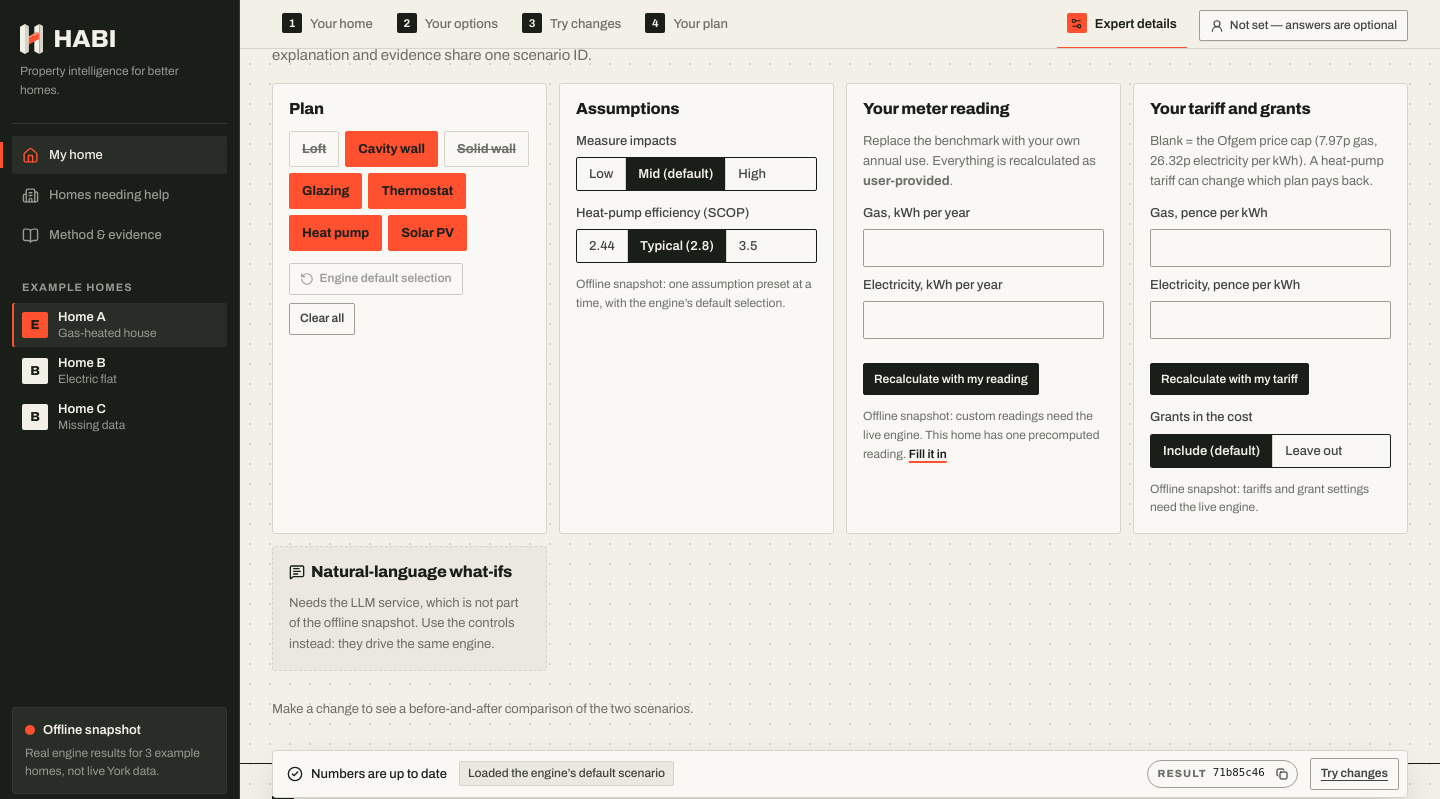
Test: My Home: demo home A (Poor gas house) › uses a meter reading as a user-provided baseline (preset in the snapshot)
(page scrolled)
Click the button "Fill it in": (928, 454) [909, 445, 947, 463]
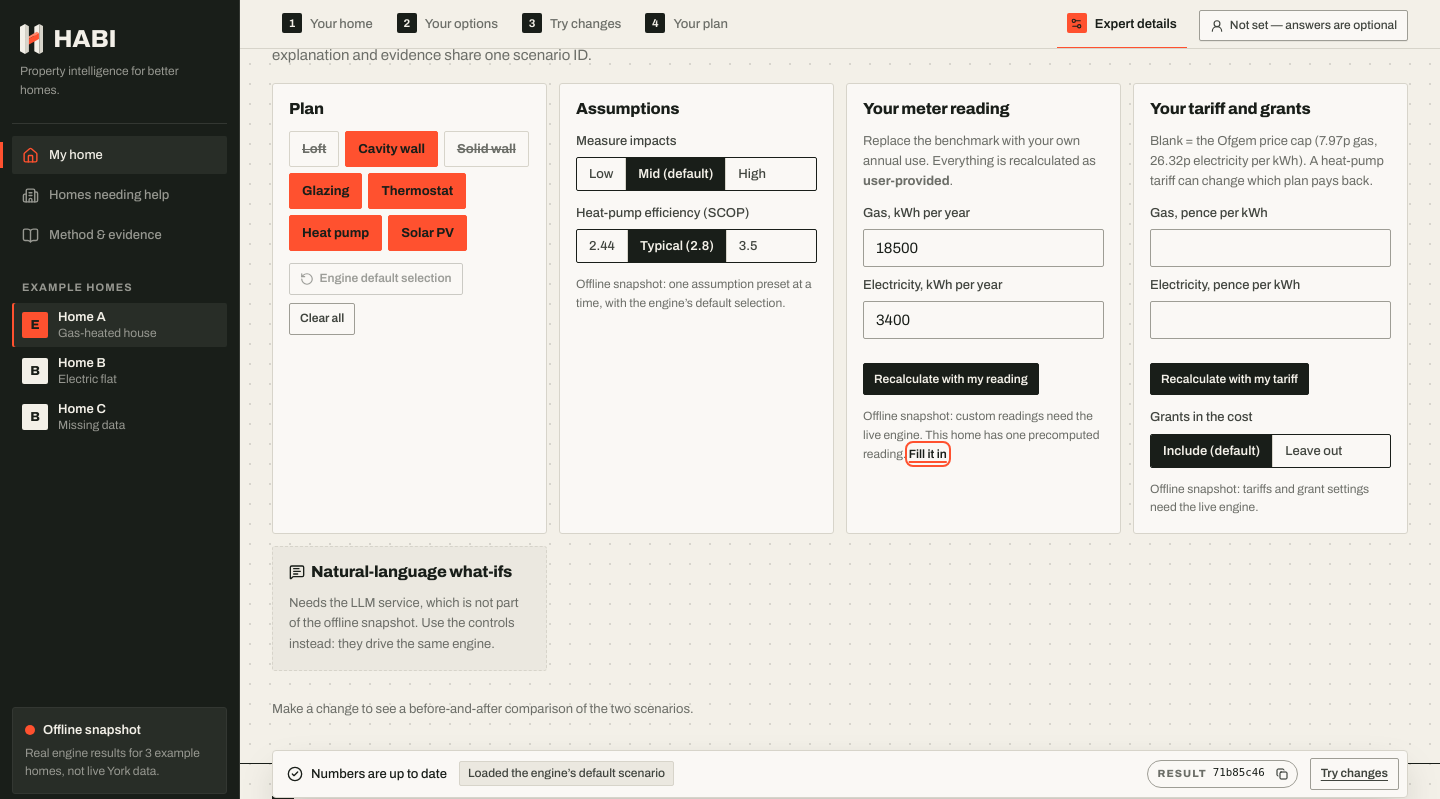
Click the button "Recalculate with my reading": (951, 379) [863, 363, 1039, 395]
(page scrolled)
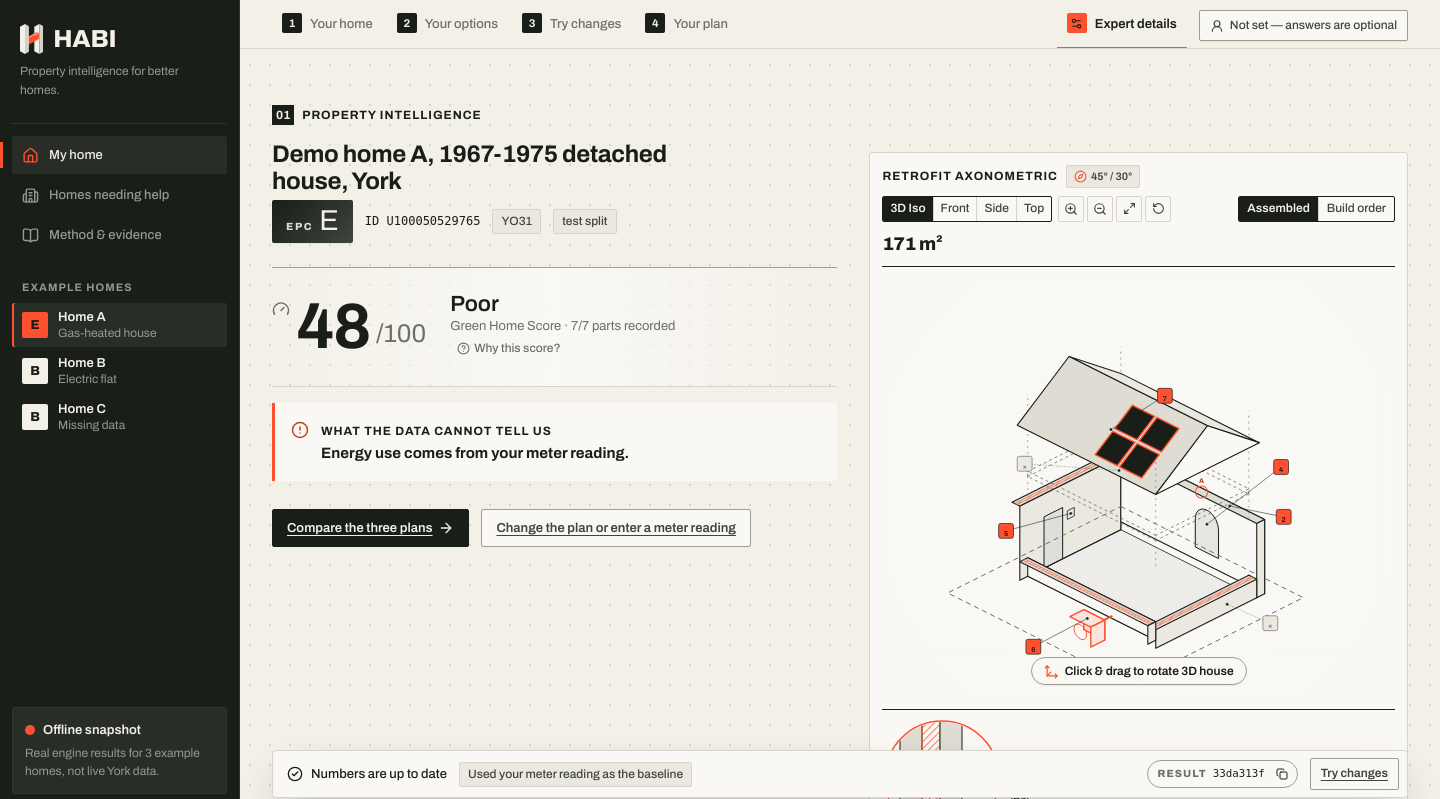
Expected: the text "Energy use comes from your meter reading." is shown, [321, 442, 629, 466]
